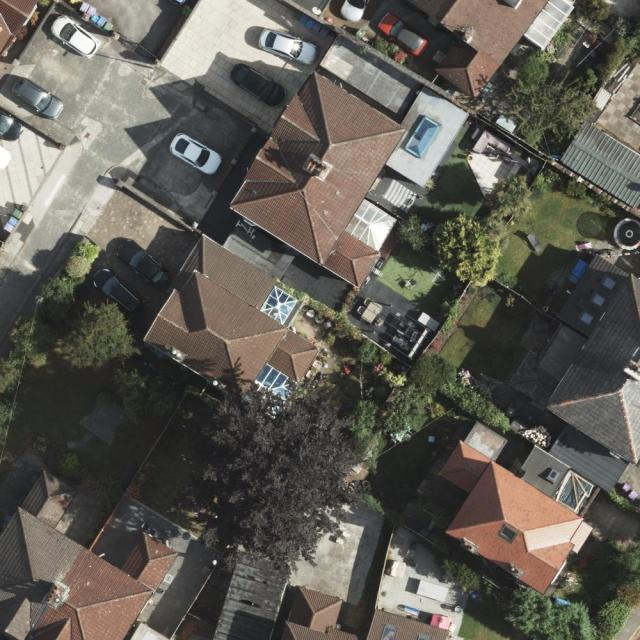roof: (440, 255, 640, 597), (230, 33, 469, 287), (139, 232, 320, 424), (0, 469, 181, 640), (410, 0, 576, 99), (280, 588, 449, 640), (212, 545, 291, 640), (561, 119, 640, 208), (0, 0, 37, 58)
skylight: (243, 365, 302, 426), (342, 196, 398, 253), (402, 112, 444, 160), (260, 285, 300, 326), (497, 522, 521, 546), (601, 273, 618, 292), (591, 291, 606, 309), (379, 626, 398, 640), (546, 467, 562, 482), (580, 312, 596, 326), (418, 634, 432, 639)
